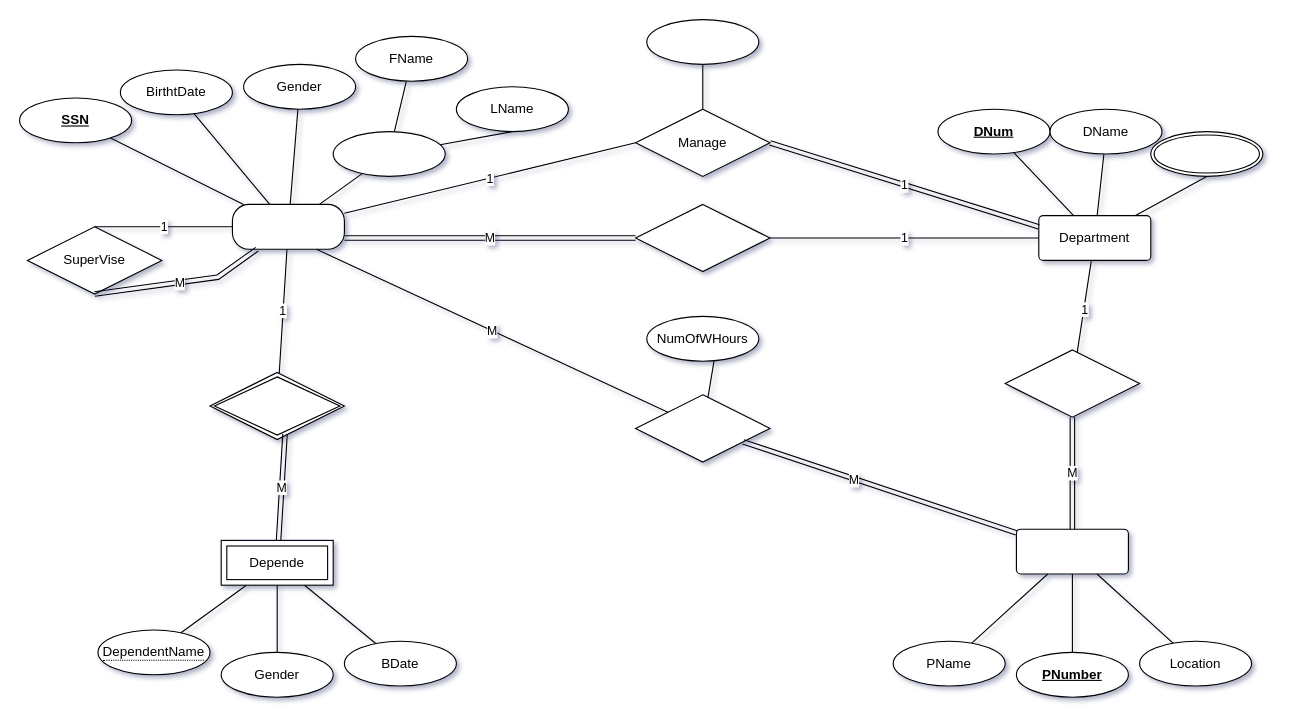
Image size: 1289x724. Some labels were removed from this diagram. The centre of each missing label's shape, as x and y in pixels:
"Employee" belongs at (x=287, y=226).
"Have" belongs at (x=1072, y=383).
"HiringDate" belongs at (x=702, y=41).
"Locations" belongs at (x=1206, y=153).
"Name" belongs at (x=388, y=153).
"Project" belongs at (x=1071, y=551).
"Relationship" belongs at (x=276, y=405).
"Work in" belongs at (x=702, y=428).
"Work on" belongs at (x=702, y=237).
